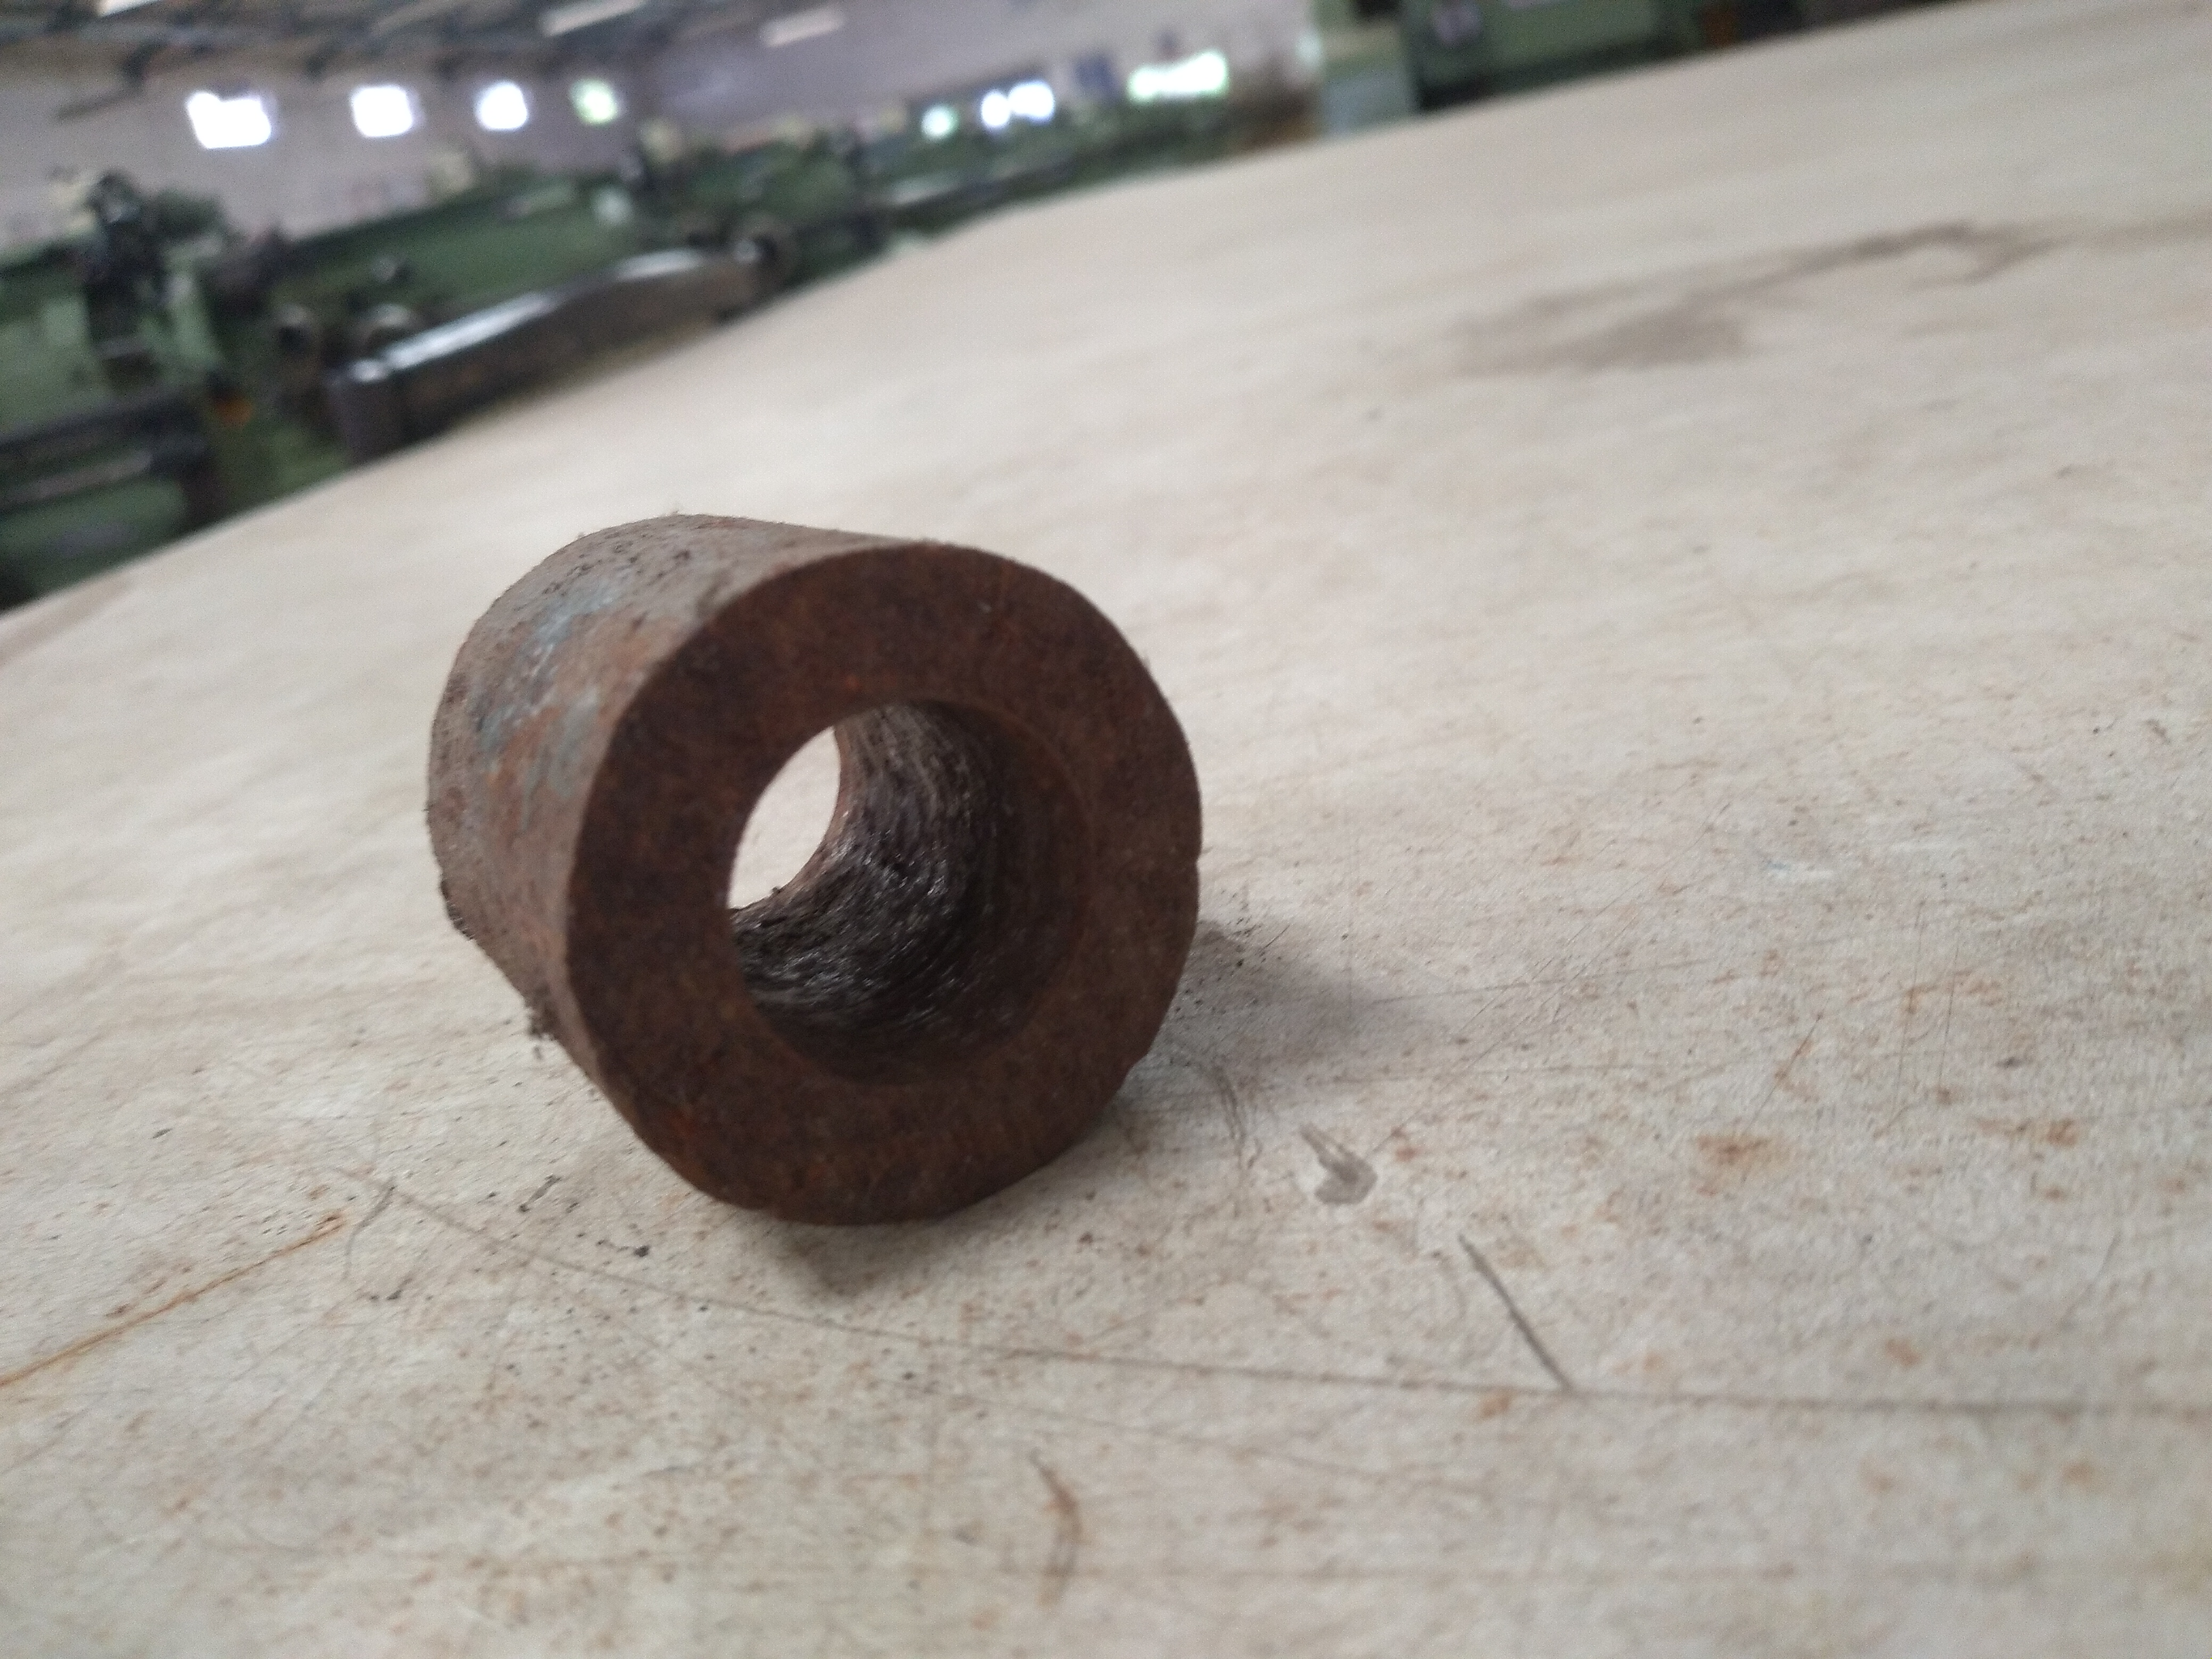No thread: (683, 629, 1155, 1114)
